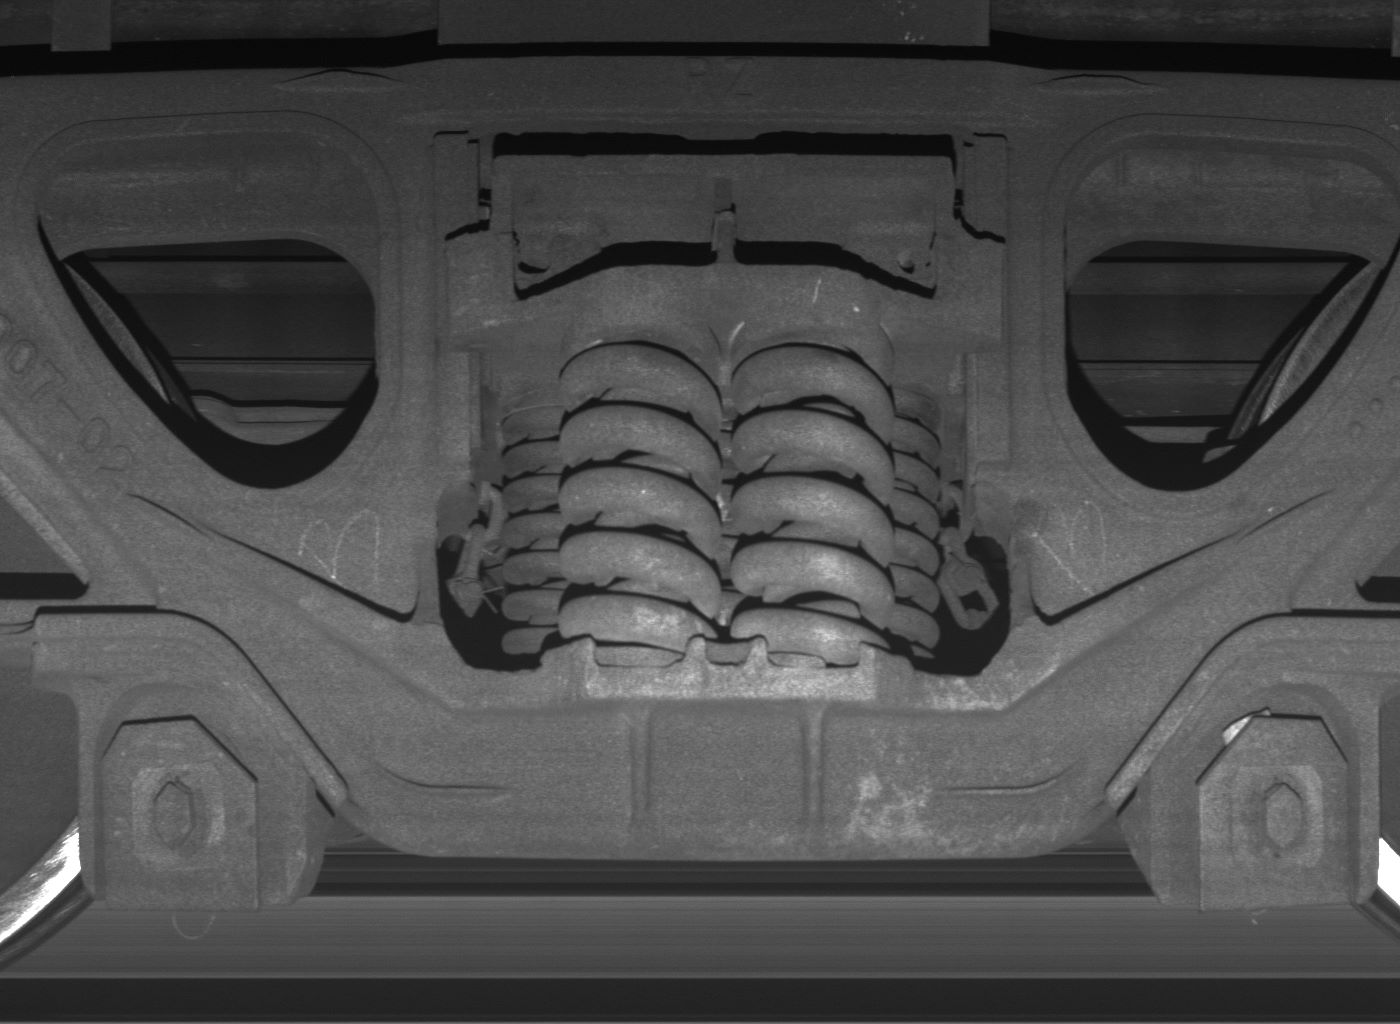normal: (79, 680, 310, 911), (1152, 685, 1378, 912)
